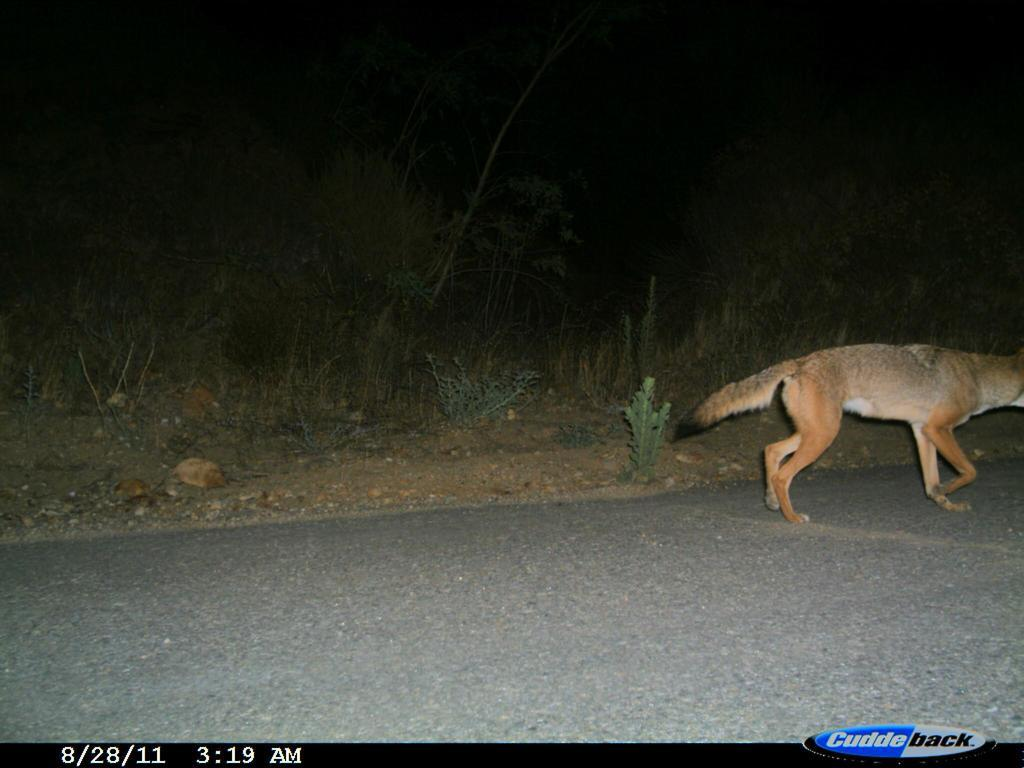coyote: (660, 332, 1023, 529)
